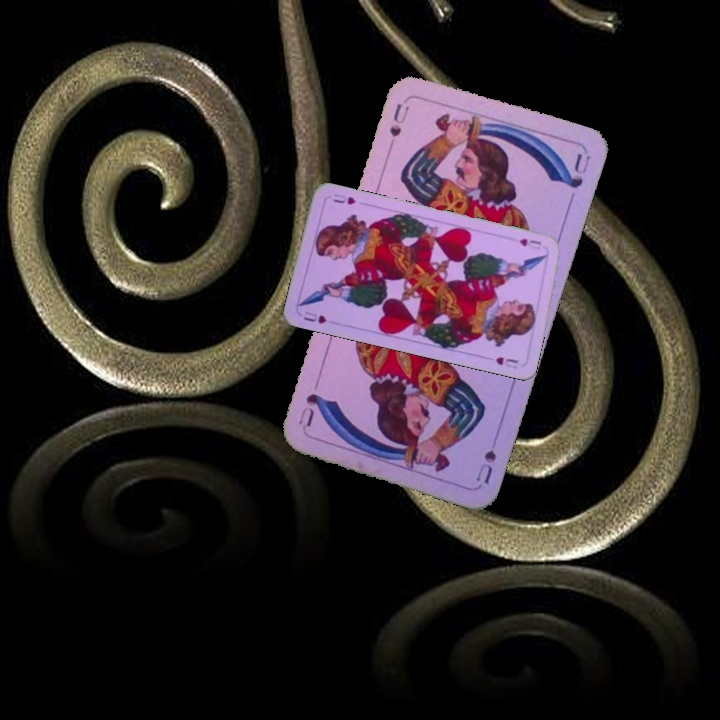HU: (300, 308, 329, 326), (515, 234, 544, 252)
SU: (472, 428, 503, 487), (385, 95, 412, 140)
